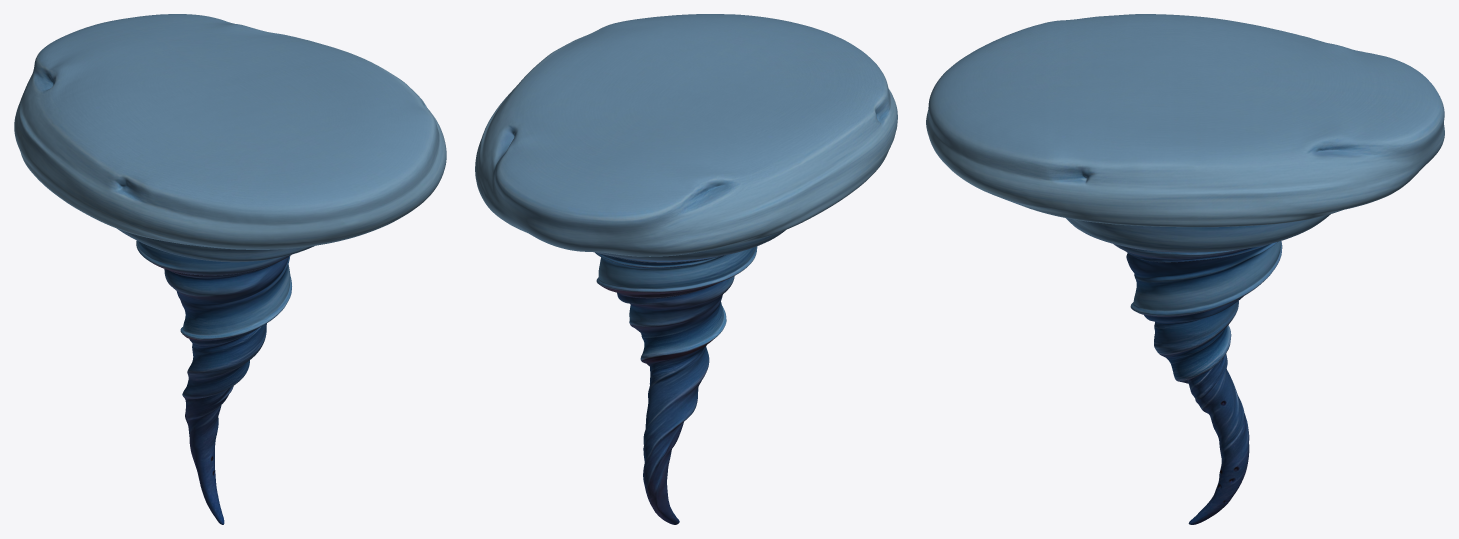
The model's file is tornado-3d-model-021640df.glb.
3 renders of one model, left to right at view 1: azimuth 30°, elevation 25°; view 2: azimuth 150°, elevation 25°; view 3: azimuth 270°, elevation 25°, orthographic. The views are drawn at different scales.
Parts seen in each view (by area): view 1: tripo_node_403969dd-1ae1-4ed8-a761-0b9b9bcccb4f; view 2: tripo_node_403969dd-1ae1-4ed8-a761-0b9b9bcccb4f; view 3: tripo_node_403969dd-1ae1-4ed8-a761-0b9b9bcccb4f.
Boxes of the visible parts, bbox=[...] form: tripo_node_403969dd-1ae1-4ed8-a761-0b9b9bcccb4f: bbox=[14, 14, 446, 524]; tripo_node_403969dd-1ae1-4ed8-a761-0b9b9bcccb4f: bbox=[475, 14, 897, 524]; tripo_node_403969dd-1ae1-4ed8-a761-0b9b9bcccb4f: bbox=[926, 14, 1444, 524].
Size of the model in its own units: 0.7857 by 0.9494 by 1.
Materials: 1 (1 with a texture image).
